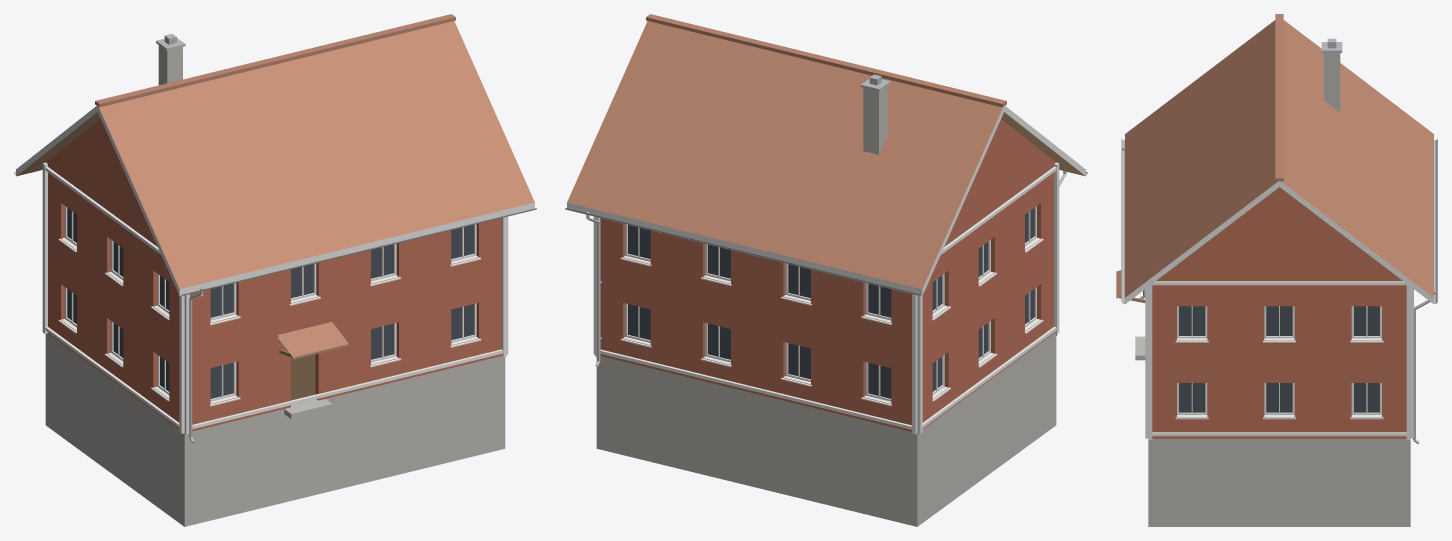
The model's file is nordic_house_2_m.glb.
3 views of the same model, side by side, from view 1: azimuth 30°, elevation 25°; view 2: azimuth 150°, elevation 25°; view 3: azimuth 270°, elevation 25° (orthographic). The views are drawn at different scales.
Parts seen in each view (by area): view 1: nordic_house_2_m; view 2: nordic_house_2_m; view 3: nordic_house_2_m.
Boxes of the visible parts, <box> form: nordic_house_2_m: <box>14,14,536,526</box>; nordic_house_2_m: <box>565,14,1087,526</box>; nordic_house_2_m: <box>1116,14,1437,526</box>.
Size of the model in its own units: 13.34 by 14.28 by 11.03.
